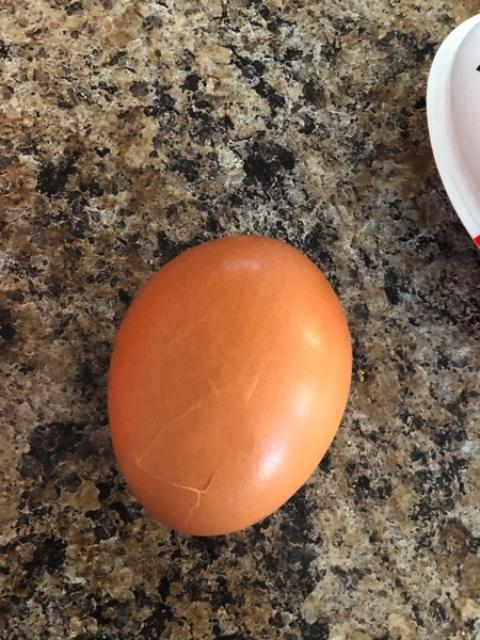Roto: (106, 233, 354, 537)
